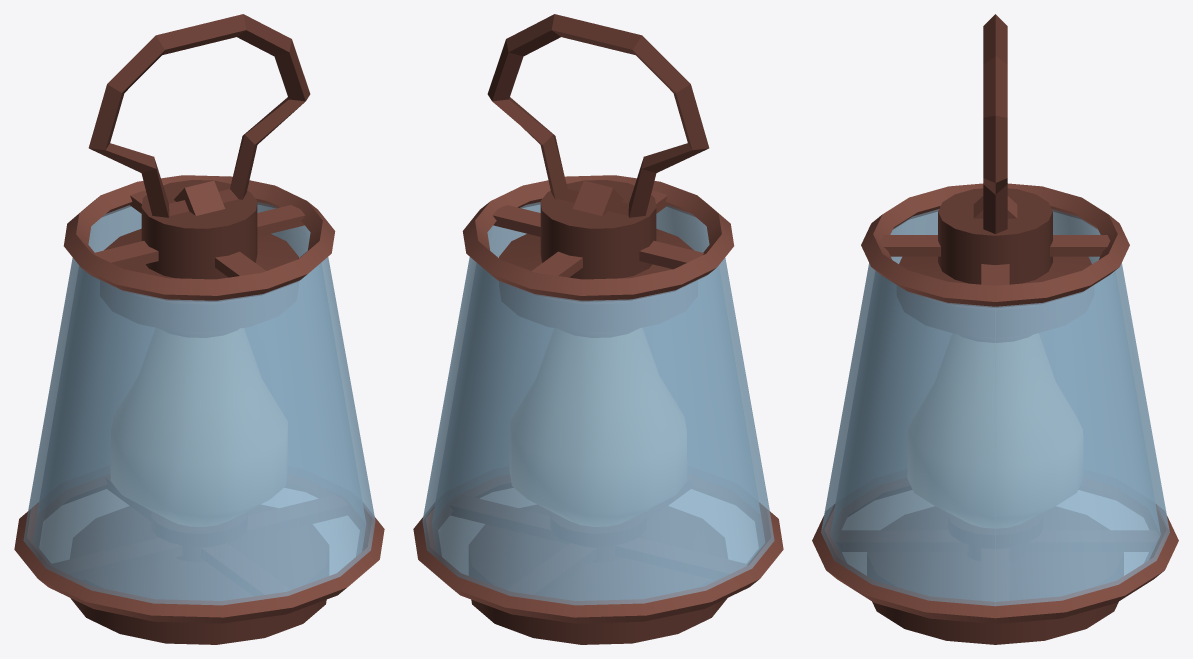
Rendered from Torch2.fbx.
3 views of the same model, side by side, from view 1: azimuth 30°, elevation 25°; view 2: azimuth 150°, elevation 25°; view 3: azimuth 270°, elevation 25° (orthographic).
Visible parts, largest first — view 1: Torch2_mesh; view 2: Torch2_mesh; view 3: Torch2_mesh.
Part boxes in pixels (left/top/right/bottom): Torch2_mesh: left=14, top=14, right=384, bottom=644; Torch2_mesh: left=413, top=14, right=783, bottom=644; Torch2_mesh: left=812, top=14, right=1178, bottom=644.
Size of the model in its own units: 15 by 25.06 by 15.
